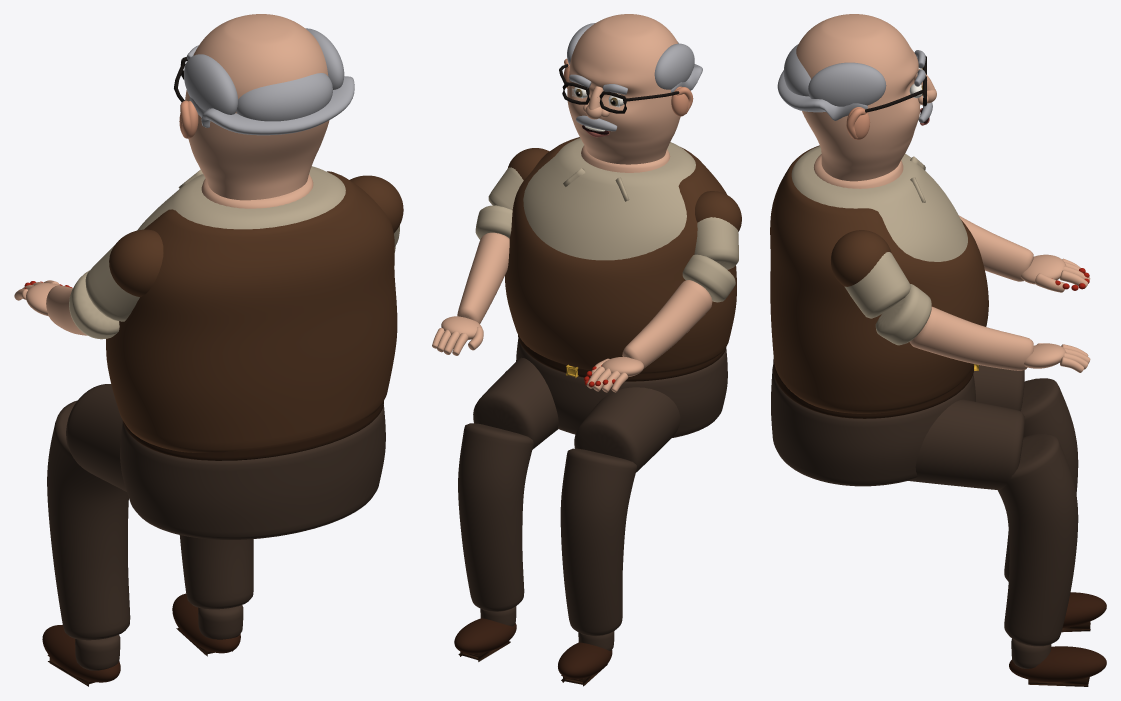
Rendered from rifki.glb.
3 renders of one model, left to right at view 1: azimuth 30°, elevation 25°; view 2: azimuth 150°, elevation 25°; view 3: azimuth 270°, elevation 25°, orthographic. The views are drawn at different scales.
Visible parts, largest first — view 1: KnitVest, PelvisPants.001, FaceSkull.001, CalfL.001, ShirtBody, CalfR.001, ThighL.001, HairBackNape, ShoulderCapL.001, HairHorseshoe.001, LeatherBelt, HairSideL (+11 smaller); view 2: KnitVest, ShirtBody, CalfR.001, FaceSkull.001, CalfL.001, PelvisPants.001, ThighL.001, ThighR.001, ForearmL.001, ForearmR.001, RolledSleeveL, ShoeUpperR (+11 smaller); view 3: KnitVest, CalfR.001, FaceSkull.001, PelvisPants.001, ShirtBody, ThighR.001, ForearmR.001, CalfL.001, HairSideR, RolledSleeveR, ShoeUpperR, ShoulderCapR.001 (+11 smaller).
Boxes of the visible parts, left/top/right/bottom form: KnitVest: left=106, top=171, right=397, bottom=452; PelvisPants.001: left=120, top=405, right=385, bottom=539; FaceSkull.001: left=185, top=14, right=329, bottom=200; CalfL.001: left=47, top=400, right=130, bottom=640; ShirtBody: left=137, top=166, right=345, bottom=230; CalfR.001: left=179, top=535, right=253, bottom=609; ThighL.001: left=66, top=384, right=126, bottom=491; HairBackNape: left=236, top=73, right=332, bottom=121; ShoulderCapL.001: left=109, top=229, right=163, bottom=297; HairHorseshoe.001: left=189, top=76, right=354, bottom=135; LeatherBelt: left=122, top=401, right=383, bottom=460; HairSideL: left=184, top=54, right=238, bottom=114; KnitVest: left=505, top=137, right=736, bottom=374; ShirtBody: left=523, top=138, right=695, bottom=260; CalfR.001: left=458, top=423, right=533, bottom=611; FaceSkull.001: left=567, top=14, right=680, bottom=164; CalfL.001: left=560, top=448, right=636, bottom=636; PelvisPants.001: left=516, top=339, right=727, bottom=437; ThighL.001: left=574, top=387, right=680, bottom=472; ThighR.001: left=473, top=357, right=558, bottom=449; ForearmL.001: left=622, top=280, right=712, bottom=368; ForearmR.001: left=457, top=232, right=509, bottom=323; RolledSleeveL: left=694, top=217, right=738, bottom=269; ShoeUpperR: left=454, top=618, right=516, bottom=654; KnitVest: left=770, top=145, right=988, bottom=413; CalfR.001: left=997, top=434, right=1078, bottom=646; FaceSkull.001: left=796, top=14, right=920, bottom=181; PelvisPants.001: left=771, top=367, right=975, bottom=486; ShirtBody: left=791, top=146, right=967, bottom=261; ThighR.001: left=908, top=399, right=1024, bottom=490; ForearmR.001: left=909, top=306, right=1033, bottom=370; CalfL.001: left=1004, top=378, right=1078, bottom=581; HairSideR: left=808, top=62, right=886, bottom=106; RolledSleeveR: left=844, top=252, right=911, bottom=318; ShoeUpperR: left=1009, top=646, right=1106, bottom=682; ShoulderCapR.001: left=831, top=230, right=891, bottom=286.
Bounding box in the file's own units: 0.6306 × 1.36 × 0.6582.
